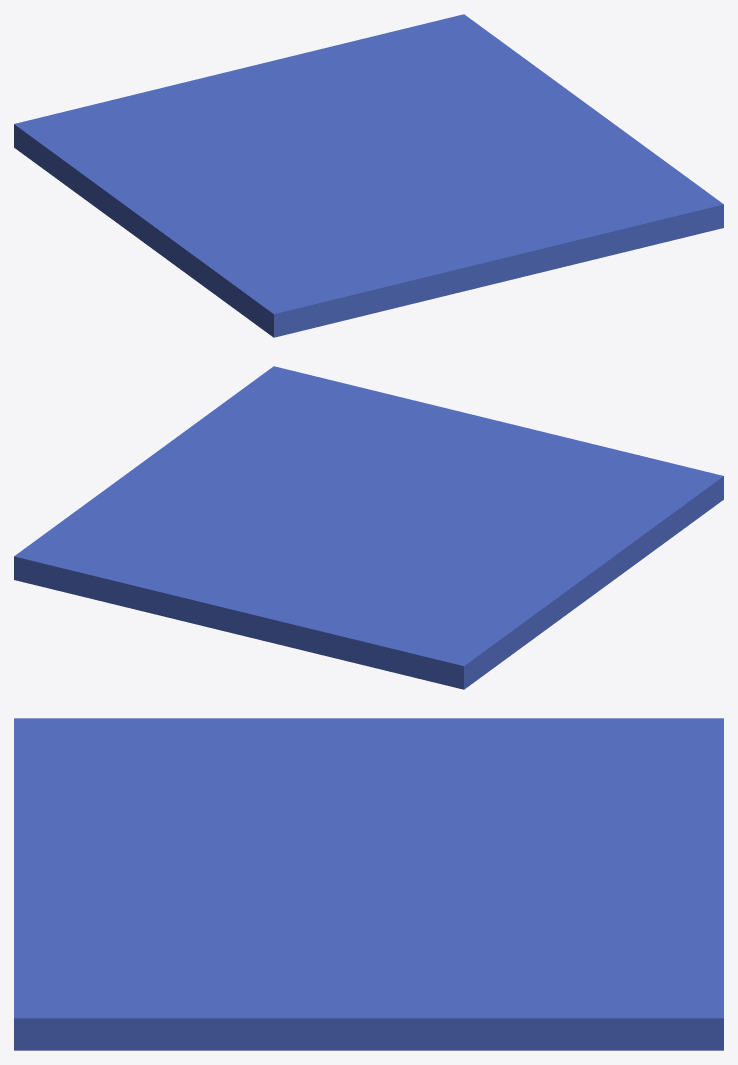
Rendered from testsurf.fbx.
The picture shows the model from 3 angles, top to bottom: view 1: azimuth 30°, elevation 25°; view 2: azimuth 150°, elevation 25°; view 3: azimuth 270°, elevation 25°; orthographic projection. The views are drawn at different scales.
Parts seen in each view (by area): view 1: Cube; view 2: Cube; view 3: Cube.
Boxes of the visible parts, x1,y1,x2,y2 form: Cube: [14, 14, 723, 337]; Cube: [14, 366, 723, 689]; Cube: [14, 718, 723, 1050].
Size of the model in its own units: 200 by 10 by 200.
